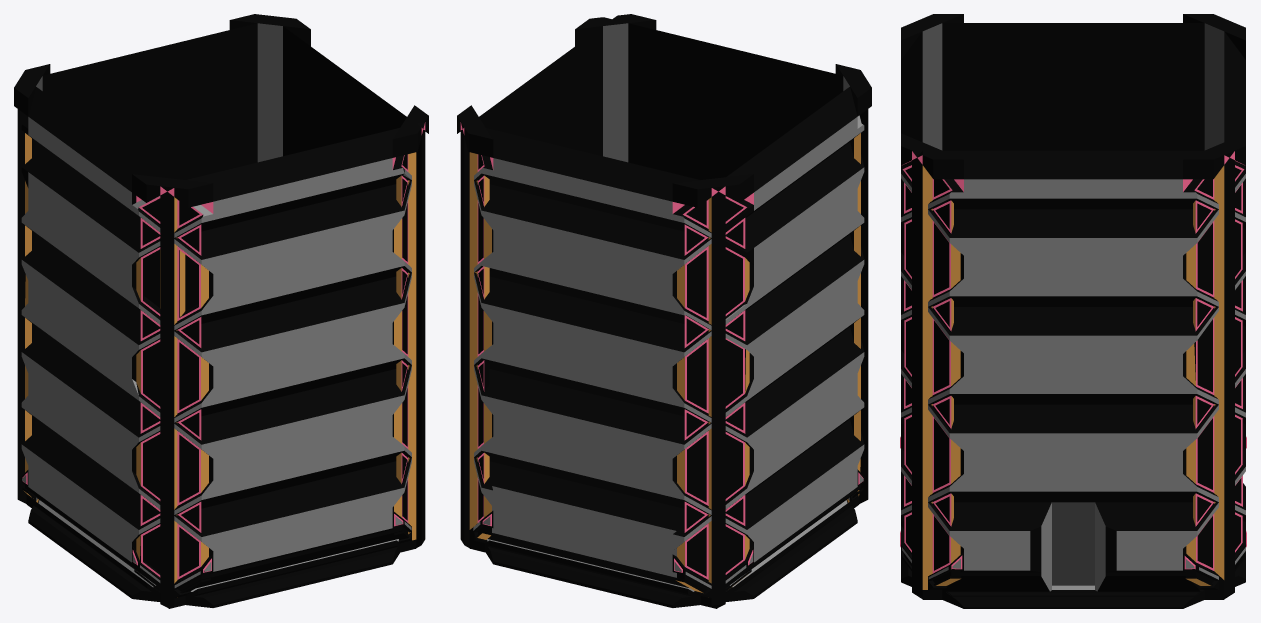
File: 32m_building_03.glb
The picture shows the model from 3 angles, left to right: view 1: azimuth 30°, elevation 25°; view 2: azimuth 150°, elevation 25°; view 3: azimuth 270°, elevation 25°; orthographic projection. The views are drawn at different scales.
Parts seen in each view (by area): view 1: building, emission; view 2: building, emission; view 3: building, emission.
Boxes of the visible parts, left/top/right/bottom form: building: left=14, top=14, right=428, bottom=608; emission: left=22, top=154, right=408, bottom=579; building: left=457, top=14, right=871, bottom=608; emission: left=477, top=154, right=863, bottom=579; building: left=901, top=14, right=1245, bottom=608; emission: left=900, top=165, right=1246, bottom=573.
Size of what is drawn, in the model's own units: 32.2 by 46 by 32.2.
Materials: 2 (2 with a texture image).
